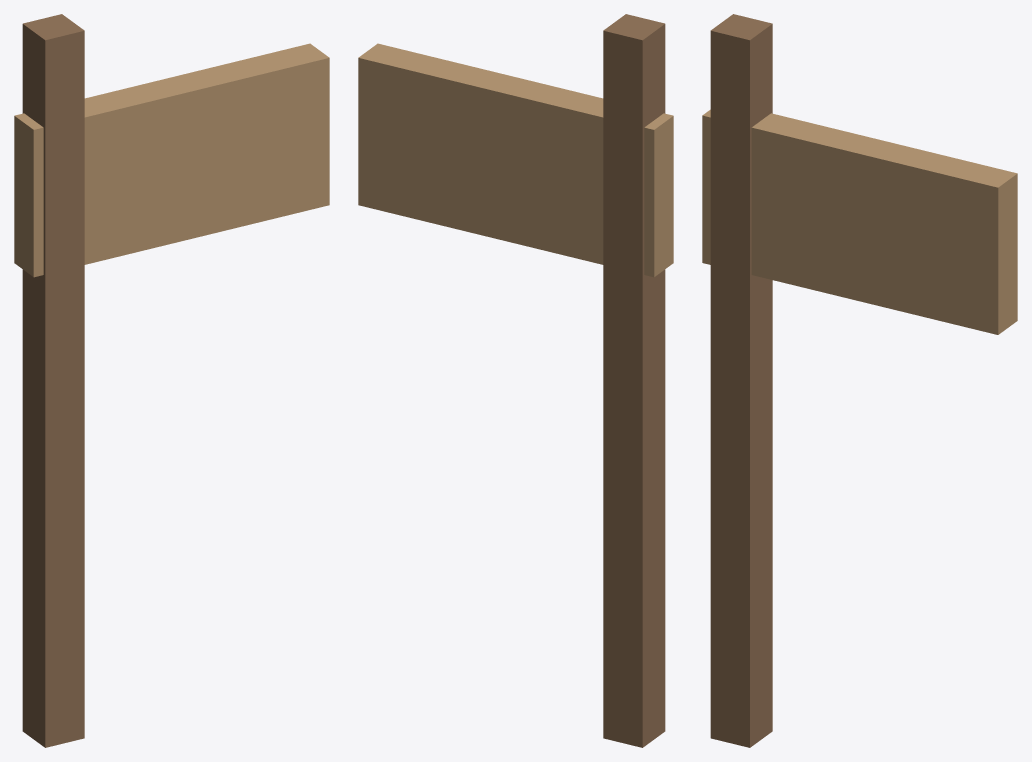
File: PROP-sign-01.glb
3 views of the same model, side by side, from view 1: azimuth 30°, elevation 25°; view 2: azimuth 150°, elevation 25°; view 3: azimuth 330°, elevation 25° (orthographic).
Visible parts, largest first — view 1: PROP-sign-01; view 2: PROP-sign-01; view 3: PROP-sign-01.
Part boxes in pixels (bbox=[...]): PROP-sign-01: bbox=[14, 14, 329, 747]; PROP-sign-01: bbox=[358, 14, 673, 747]; PROP-sign-01: bbox=[702, 14, 1017, 747].
Size of the model in its own units: 1.05 by 2.4 by 0.14.
